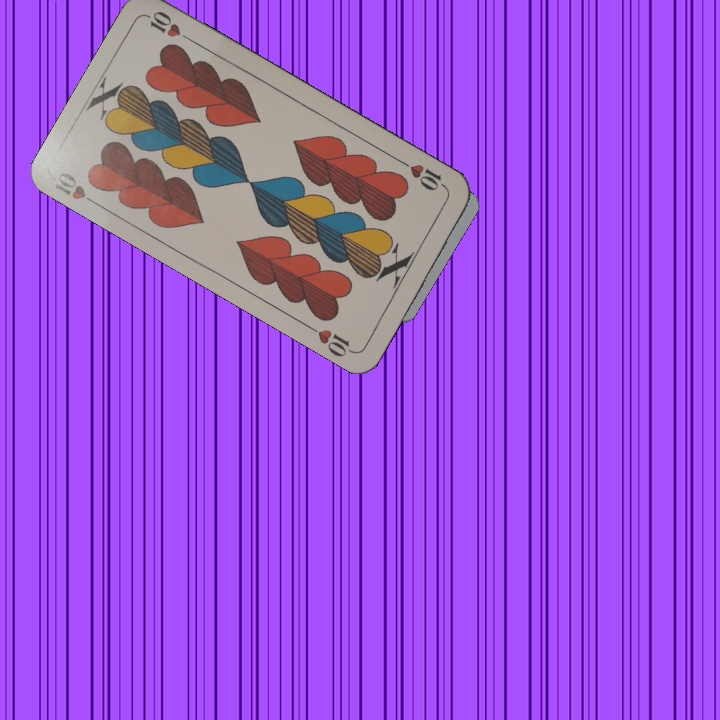H10: (51, 167, 104, 210), (396, 156, 450, 194)
